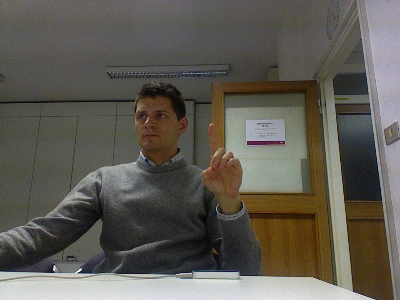食指: (199, 122, 243, 200)
